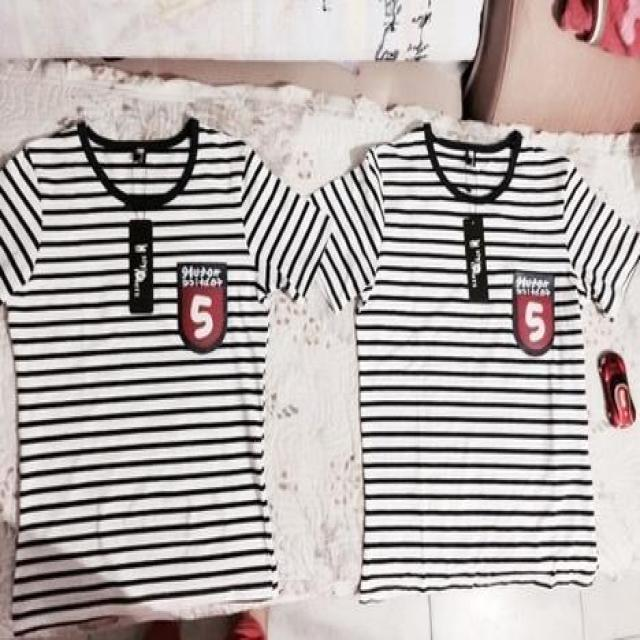short sleeve top: (1, 120, 334, 636), (306, 124, 637, 595)
